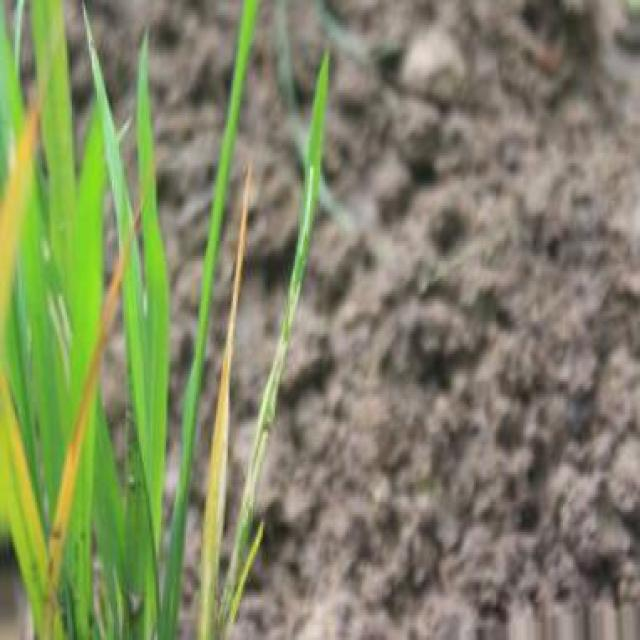Rice Tungro: (0, 245, 126, 638), (197, 165, 253, 639)
